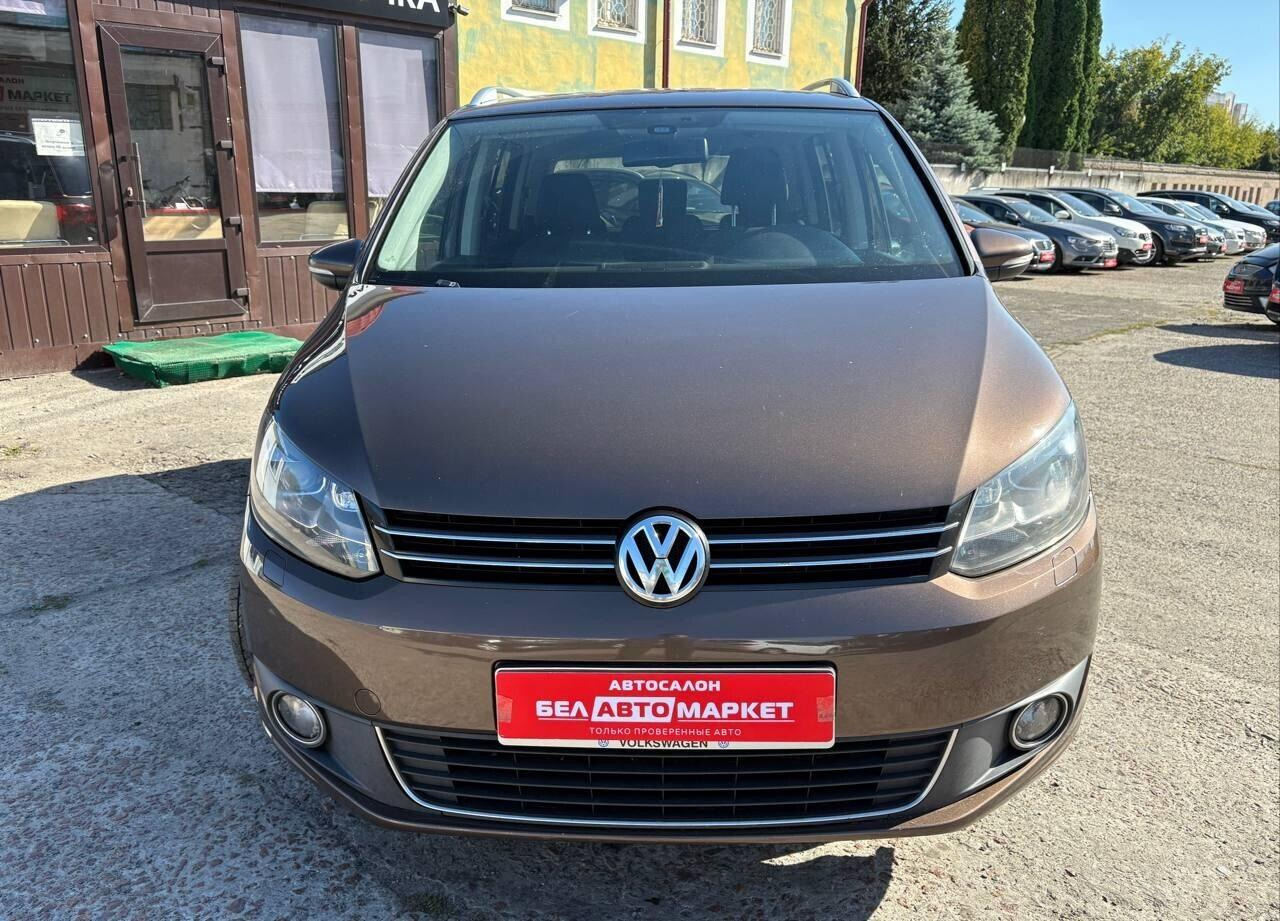Touran_2010-2015: (228, 87, 1108, 835)
